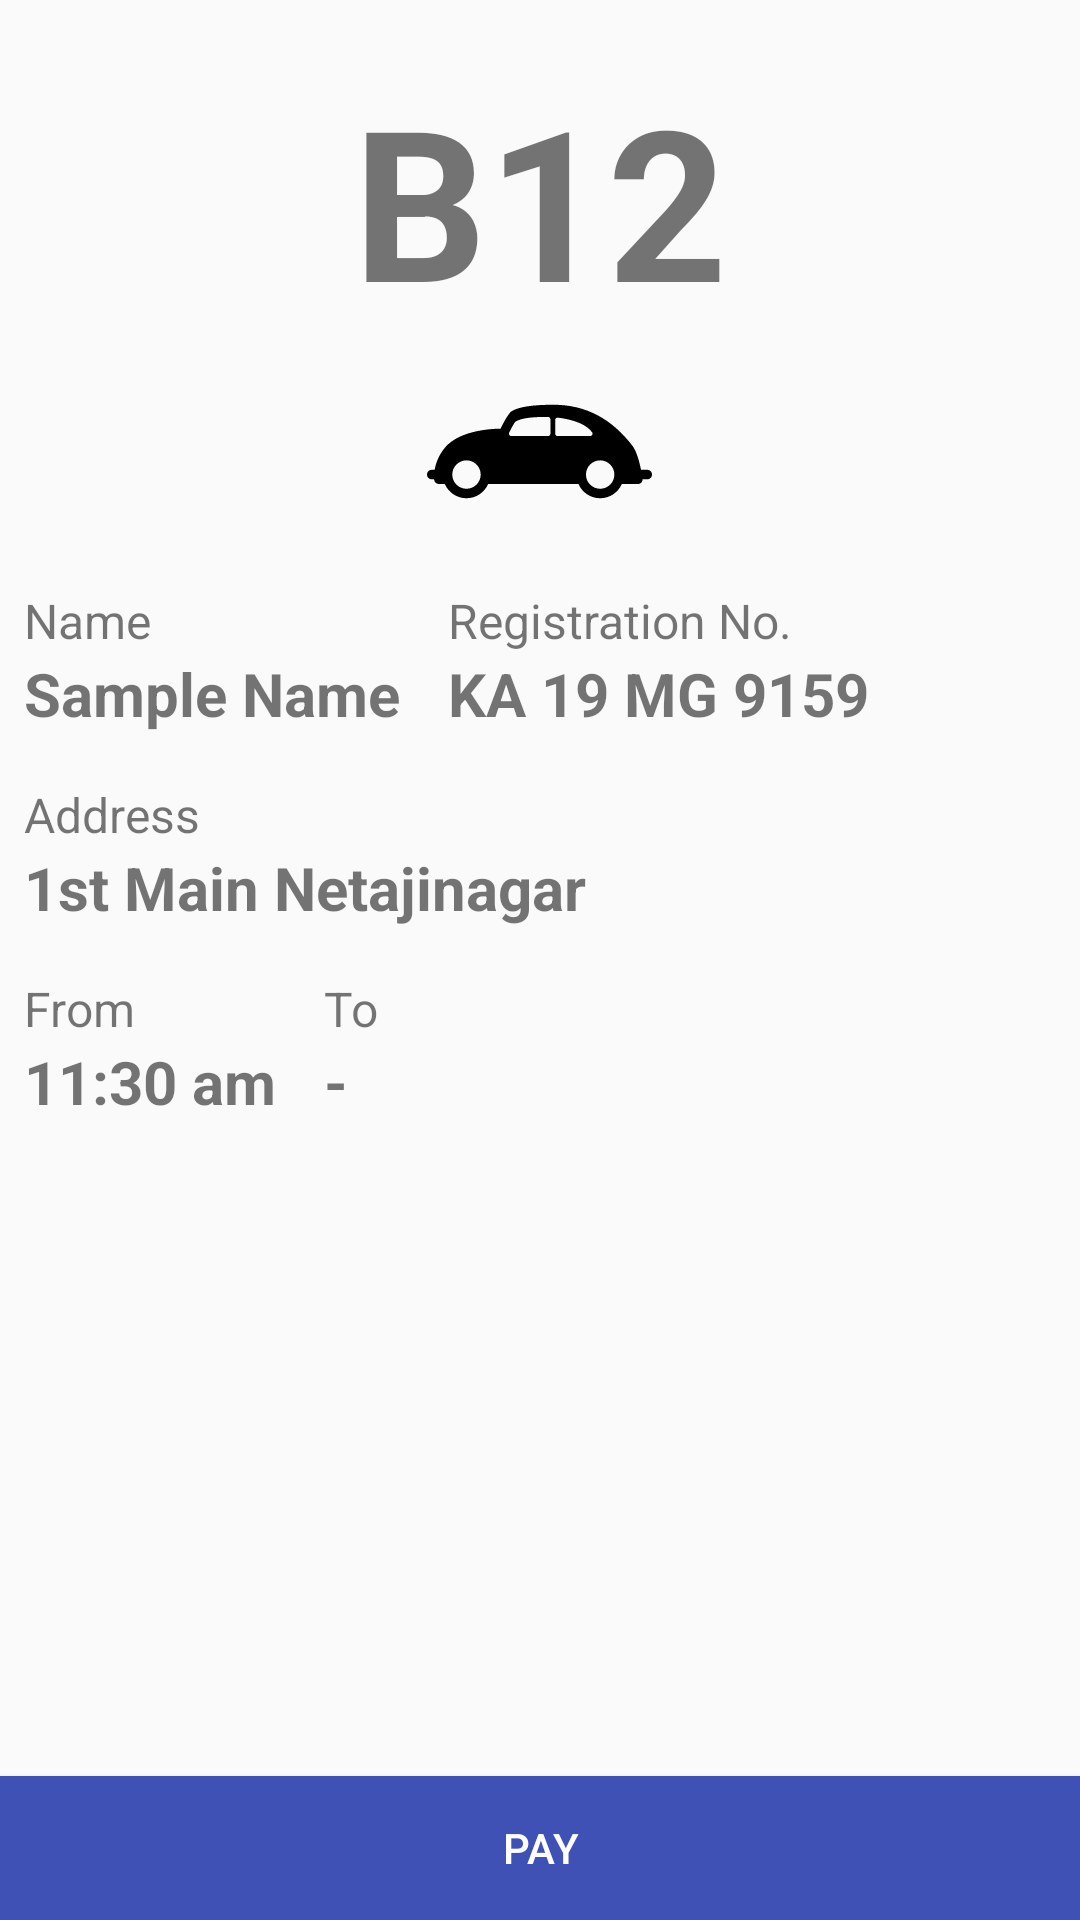

Icon bounding boxes for this 1080*1920 phone screenshot, format (x1, y1, x2, y2):
car: (427, 404, 652, 499)
